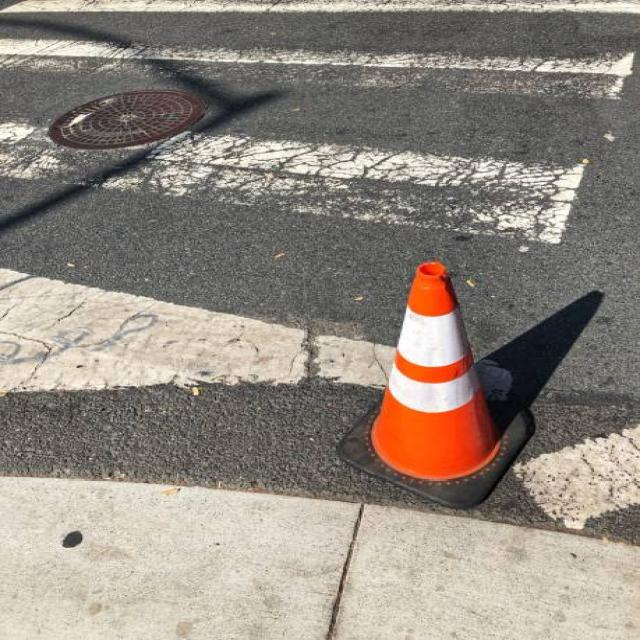Traffic Cone: (284, 200, 590, 551)
